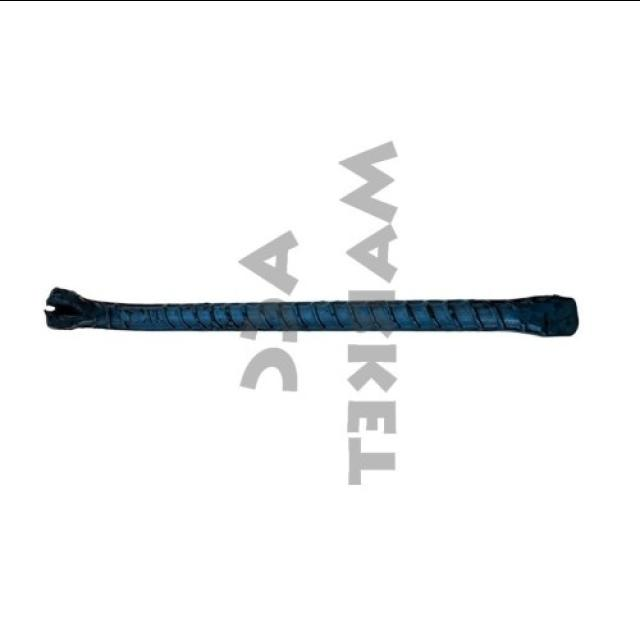Linggis: (43, 283, 583, 341)
